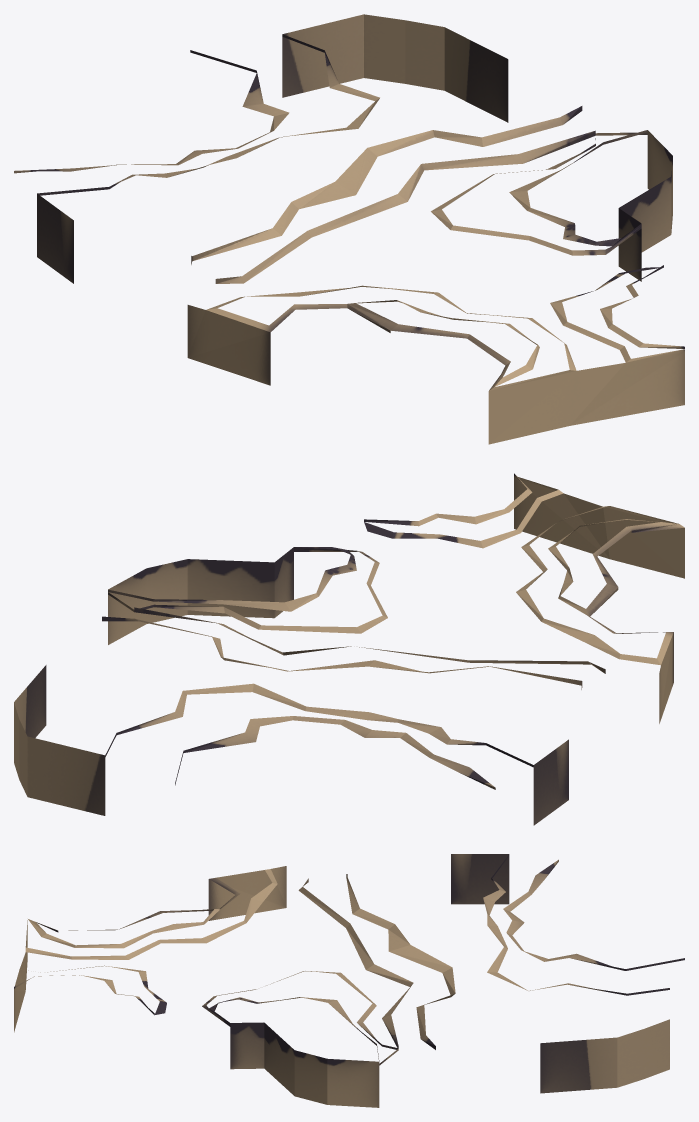
The model's file is Ground_02.FBX.
The picture shows the model from 3 angles, top to bottom: view 1: azimuth 30°, elevation 25°; view 2: azimuth 150°, elevation 25°; view 3: azimuth 270°, elevation 25°; orthographic projection. The views are drawn at different scales.
Visible parts, largest first — view 1: Ground_02; view 2: Ground_02; view 3: Ground_02.
Boxes of the visible parts, <box> form: Ground_02: <box>14,14,684,444</box>; Ground_02: <box>14,473,684,825</box>; Ground_02: <box>14,854,684,1107</box>.
Bounding box in the file's own units: 21.52 × 2.48 × 29.97.
